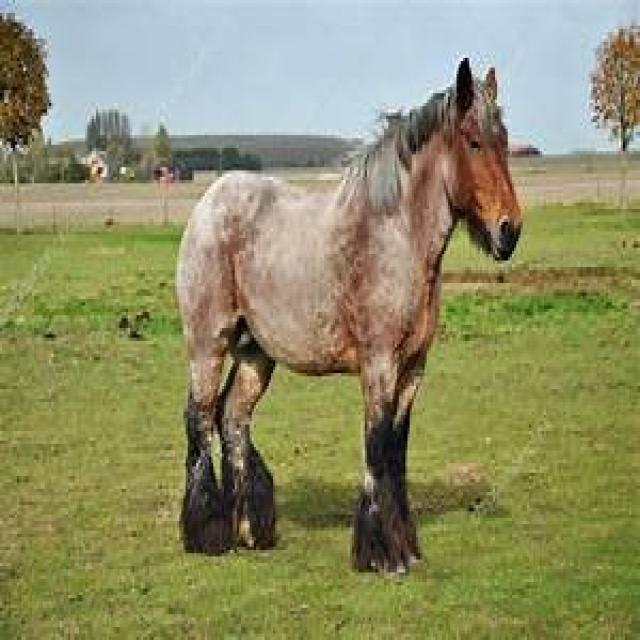horse: (175, 61, 525, 579)
